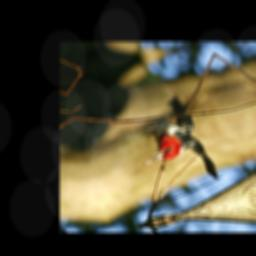Woodpecker: (123, 91, 227, 198)
